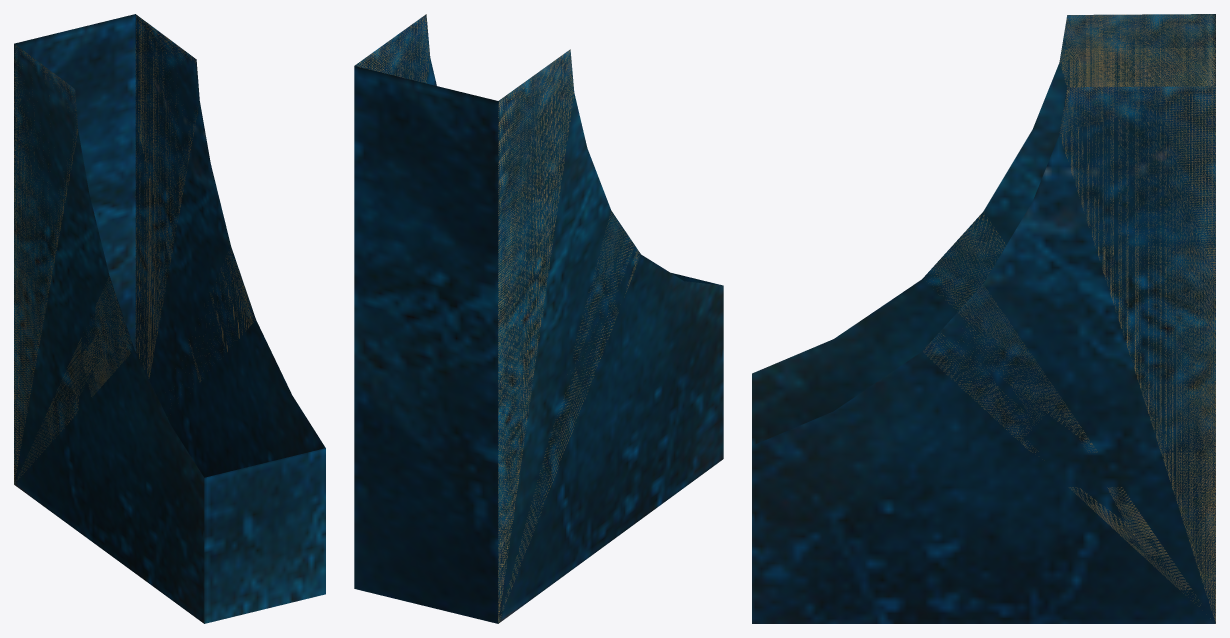
3 renders of one model, left to right at view 1: azimuth 30°, elevation 25°; view 2: azimuth 150°, elevation 25°; view 3: azimuth 270°, elevation 25°, orthographic. The views are drawn at different scales.
Visible parts, largest first — view 1: Line01; view 2: Line01; view 3: Line01.
Part boxes in pixels (bbox=[...]): Line01: bbox=[14, 14, 325, 623]; Line01: bbox=[354, 14, 723, 623]; Line01: bbox=[752, 14, 1215, 623].
Size of the model in its own units: 3.69 by 12.8 by 10.01.
